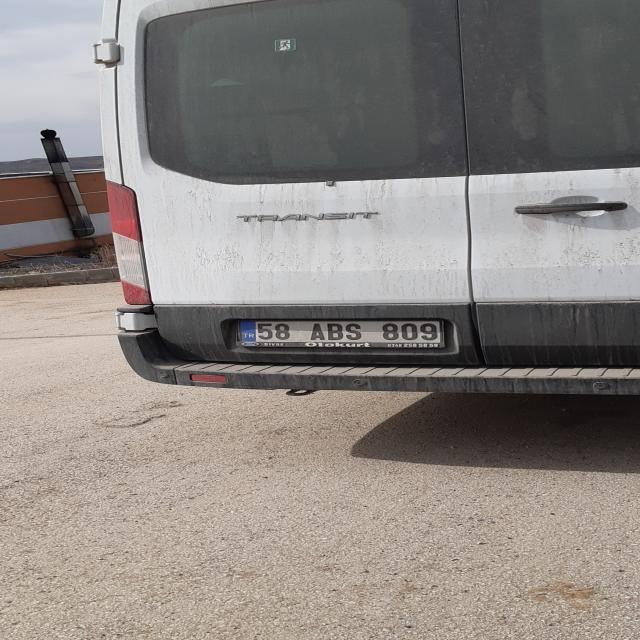plate: (236, 320, 442, 342)
